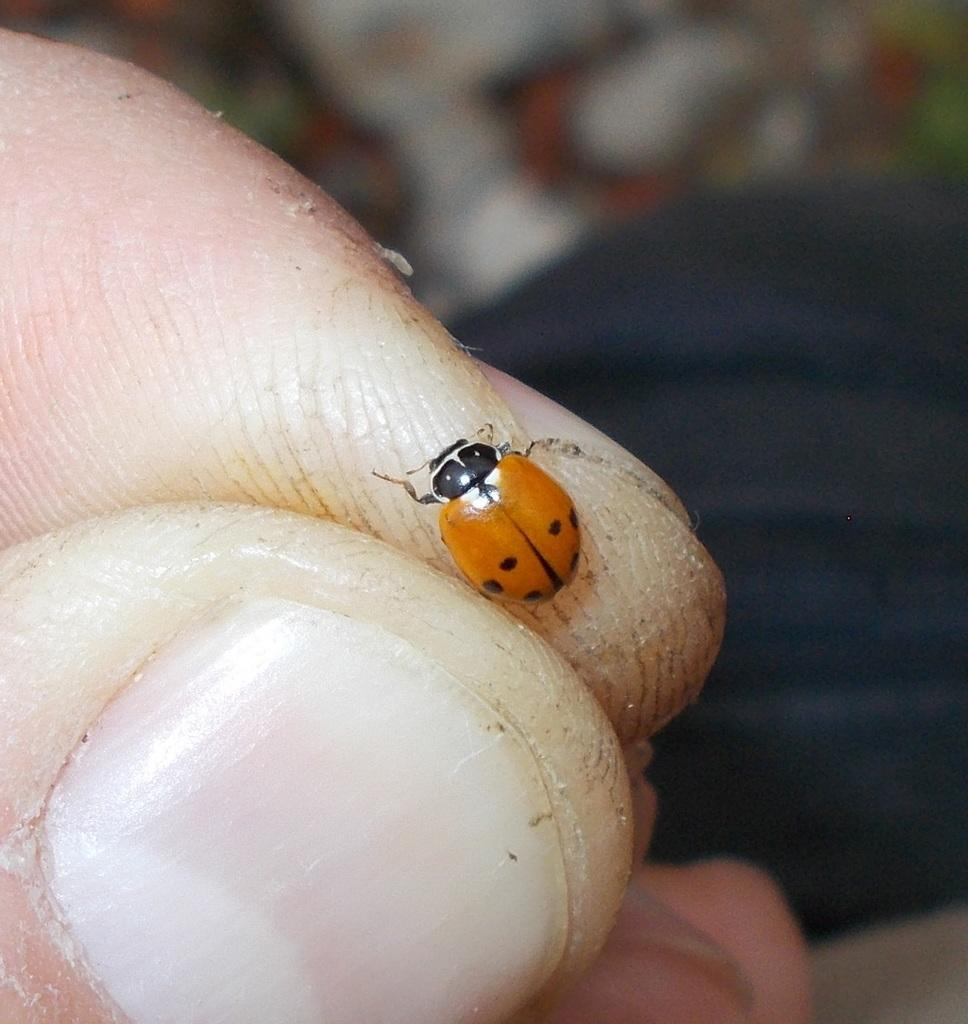ladybug: (374, 416, 589, 611)
